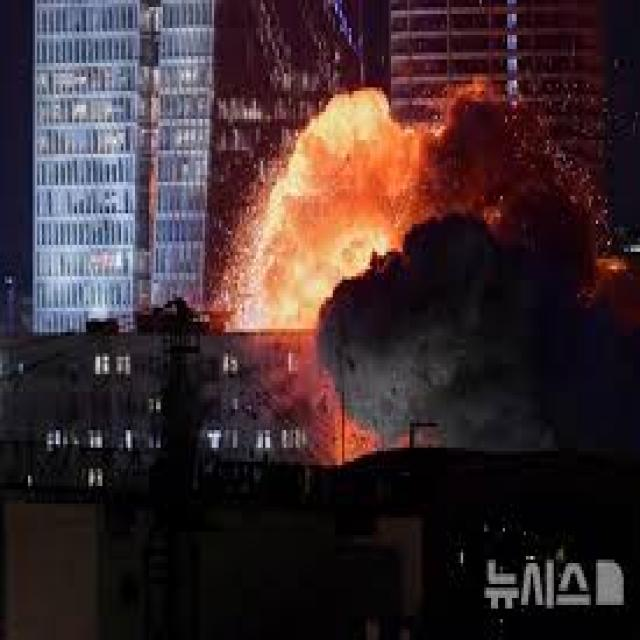explosion: (267, 88, 640, 446)
